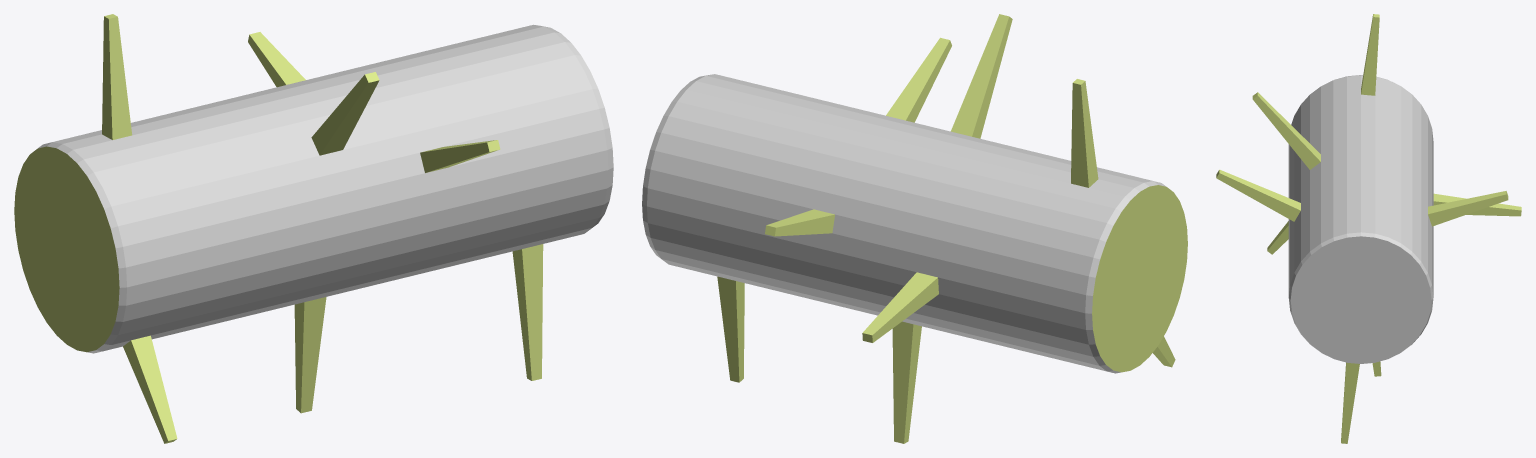
The model's file is spinnning.fbx.
3 views of the same model, side by side, from view 1: azimuth 30°, elevation 25°; view 2: azimuth 150°, elevation 25°; view 3: azimuth 270°, elevation 25° (orthographic). The views are drawn at different scales.
Parts seen in each view (by area): view 1: Cylinder; view 2: Cylinder; view 3: Cylinder.
Boxes of the visible parts, box(x1,y1,x2,y2) form: Cylinder: box(14, 14, 613, 443); Cylinder: box(642, 14, 1187, 443); Cylinder: box(1216, 14, 1521, 443).
Size of the model in its own units: 528 by 452 by 422.
